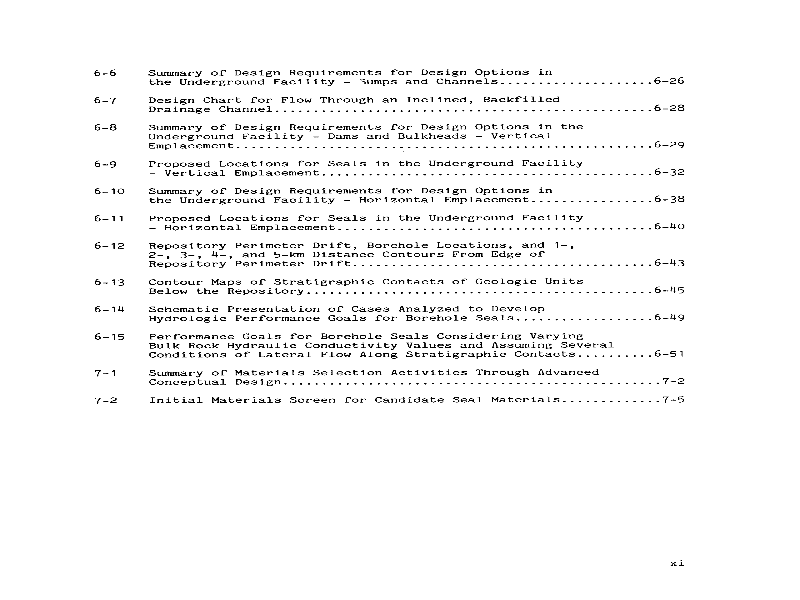table: (90, 55, 695, 422)
